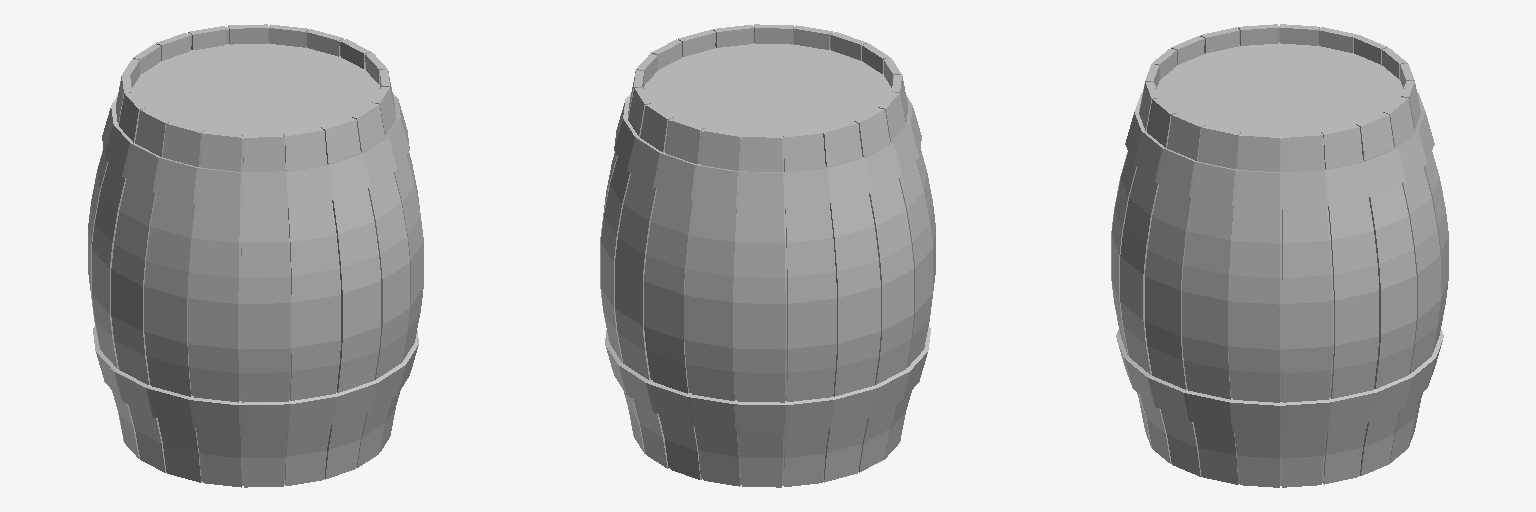
File: BarrelProp.obj
3 renders of one model, left to right at view 1: azimuth 30°, elevation 25°; view 2: azimuth 150°, elevation 25°; view 3: azimuth 270°, elevation 25°, orthographic.
Parts seen in each view (by area): view 1: pCylinder1; view 2: pCylinder1; view 3: pCylinder1.
Boxes of the visible parts, box(x1,y1,x2,y2) form: pCylinder1: box(88, 24, 423, 487); pCylinder1: box(600, 24, 935, 487); pCylinder1: box(1111, 24, 1448, 487).
Size of the model in its own units: 2.5 by 2.86 by 2.5.